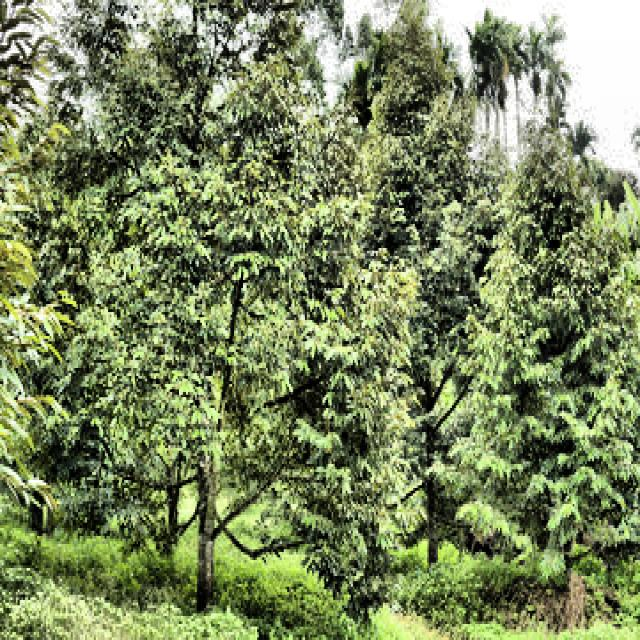arvore: (168, 308, 228, 628), (400, 308, 452, 581)
